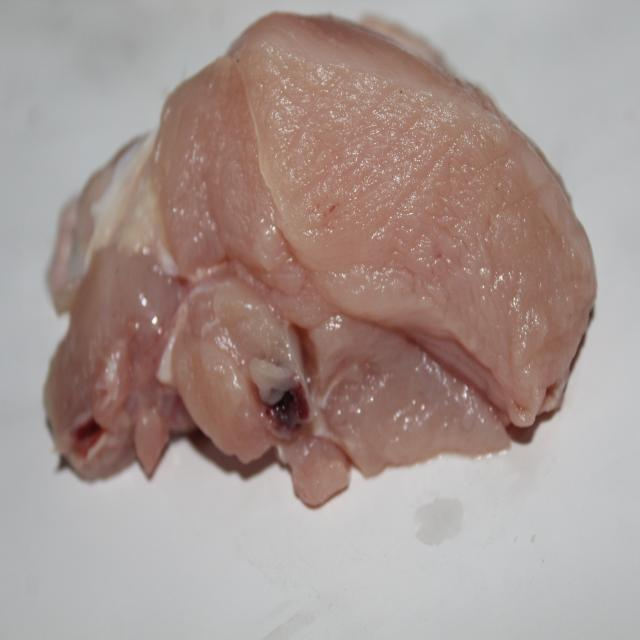chicken: (51, 15, 594, 473)
